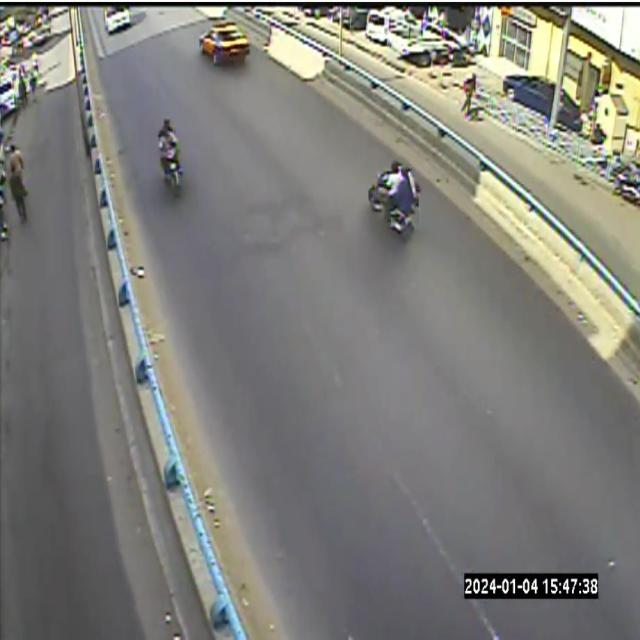car: (197, 11, 251, 65), (104, 6, 131, 35)
